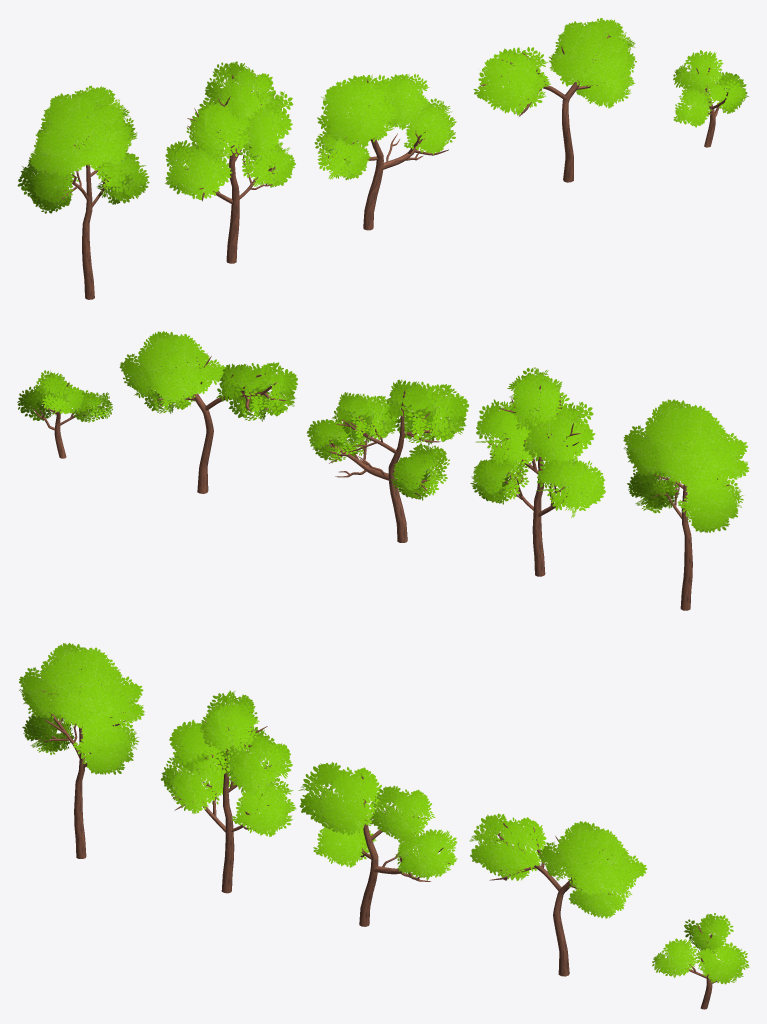
The model's file is tree-normal.glb.
The picture shows the model from 3 angles, top to bottom: view 1: azimuth 30°, elevation 25°; view 2: azimuth 150°, elevation 25°; view 3: azimuth 330°, elevation 25°; orthographic projection.
Parts seen in each view (by area): view 1: NormalTree_2, NormalTree_1, NormalTree_3, NormalTree_4, NormalTree_5; view 2: NormalTree_2, NormalTree_1, NormalTree_3, NormalTree_4, NormalTree_5; view 3: NormalTree_2, NormalTree_1, NormalTree_3, NormalTree_4, NormalTree_5.
Part boxes in pixels (x1,y1,x2,y2): NormalTree_2: (165,61,295,263); NormalTree_1: (17,85,149,299); NormalTree_3: (314,74,456,230); NormalTree_4: (473,18,636,182); NormalTree_5: (673,50,749,147); NormalTree_2: (470,367,605,576); NormalTree_1: (623,399,749,610); NormalTree_3: (306,379,469,542); NormalTree_4: (119,331,297,493); NormalTree_5: (17,370,112,458); NormalTree_2: (160,690,296,893); NormalTree_1: (19,643,144,858); NormalTree_3: (298,762,457,926); NormalTree_4: (469,813,647,976); NormalTree_5: (652,913,749,1009).
Size of the model in its own units: 24.93 by 6.87 by 3.
Materials: 2 (2 with a texture image).
